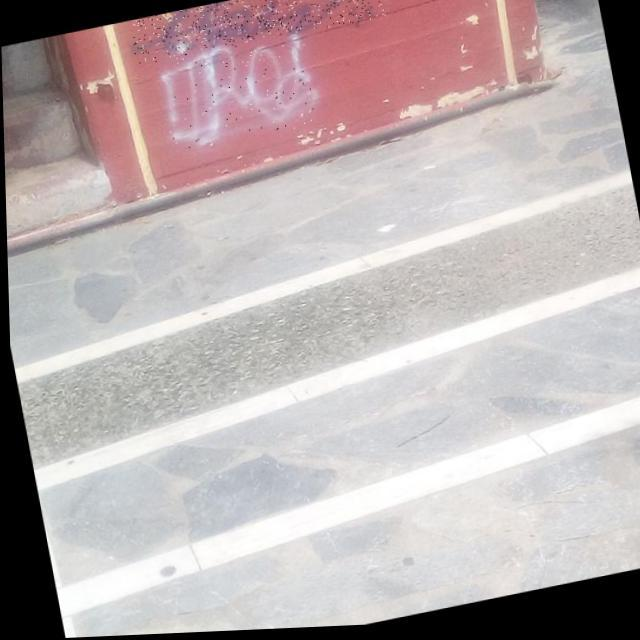-: (156, 32, 324, 156), (128, 0, 387, 69)
